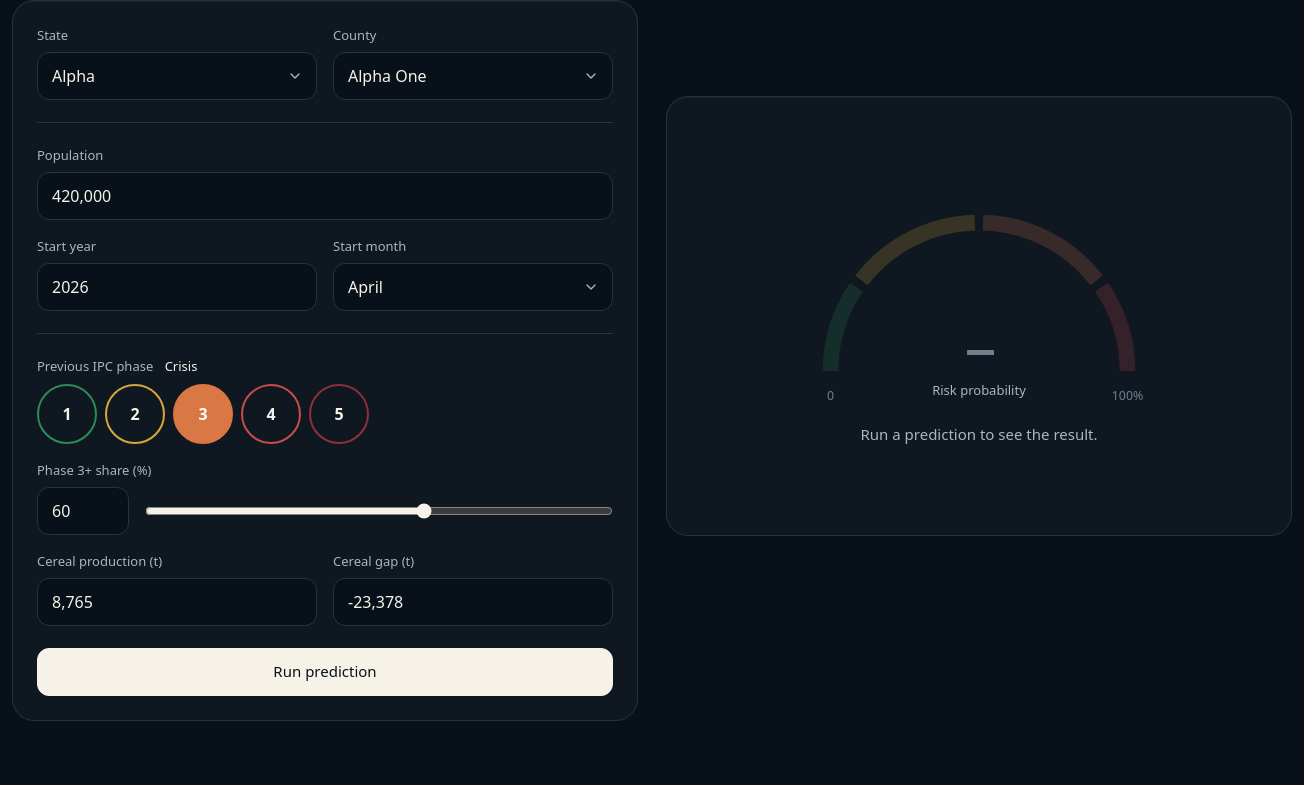
Test case: PredictWorkspace › sends the parsed payload to the same-origin proxy and shows the result
The image size is (1304, 785).
Click the button "Run prediction".
click(325, 672)  # box [37,648,613,696]
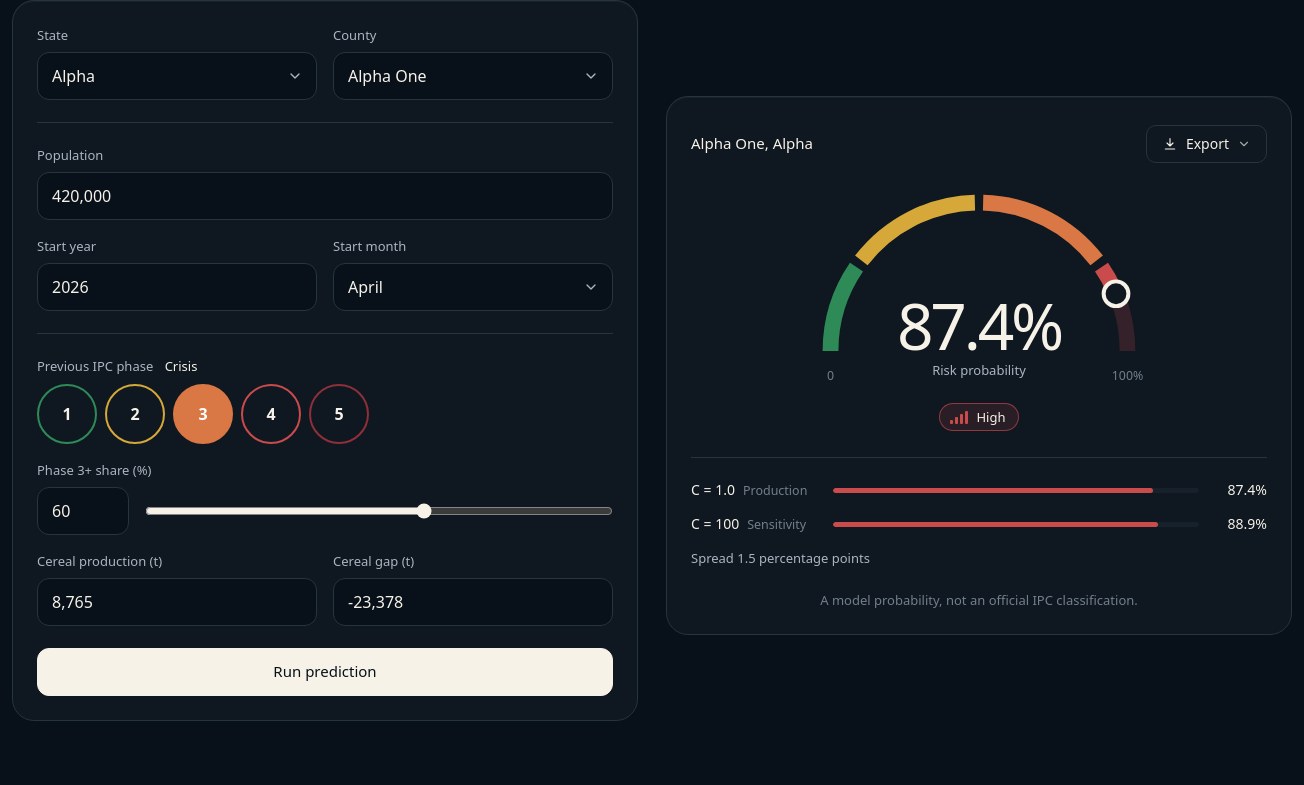
Check: the text "Alpha One, Alpha" is shown, box [691,132,813,156]
Check: the picture named "Risk probability 87.4%" is shown, box [799,171,1159,387]
Check: the 1st text "87.4%" is shown, box [897,282,1061,369]
